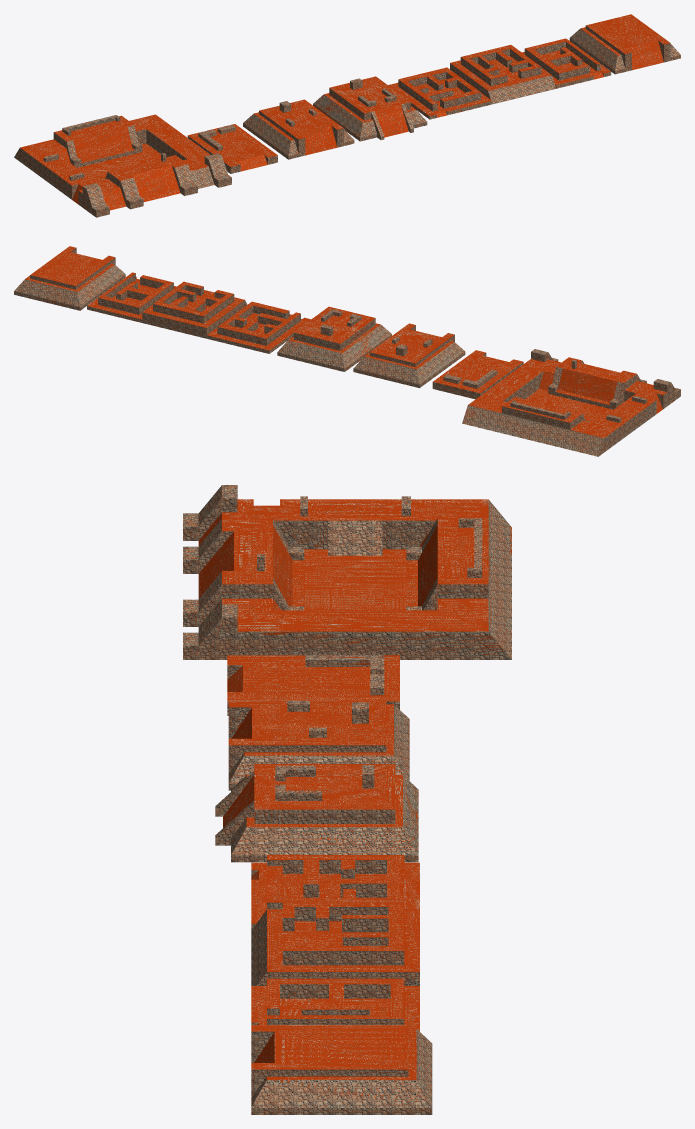
The model's file is plataformaEste.obj.
3 renders of one model, top to bottom at view 1: azimuth 30°, elevation 25°; view 2: azimuth 150°, elevation 25°; view 3: azimuth 270°, elevation 25°, orthographic. The views are drawn at different scales.
Visible parts, largest first — view 1: Mesh1 Model, Mesh5 Model, Mesh4 Model, Mesh3 Model, Mesh6 Model, Mesh2 Model; view 2: Mesh1 Model, Mesh5 Model, Mesh4 Model, Mesh3 Model, Mesh6 Model, Mesh2 Model; view 3: Mesh1 Model, Mesh5 Model, Mesh4 Model, Mesh6 Model, Mesh3 Model, Mesh2 Model.
Boxes of the visible parts, box(x1,y1,x2,y2) form: Mesh1 Model: box(14, 114, 231, 217); Mesh5 Model: box(388, 38, 611, 119); Mesh4 Model: box(313, 76, 427, 141); Mesh3 Model: box(243, 99, 354, 159); Mesh6 Model: box(569, 14, 680, 74); Mesh2 Model: box(187, 124, 277, 173); Mesh1 Model: box(462, 349, 680, 456); Mesh5 Model: box(87, 272, 310, 353); Mesh4 Model: box(277, 306, 391, 371); Mesh3 Model: box(353, 323, 465, 387); Mesh6 Model: box(14, 246, 125, 310); Mesh2 Model: box(432, 350, 523, 399); Mesh1 Model: box(183, 485, 511, 659); Mesh5 Model: box(251, 855, 419, 1031); Mesh4 Model: box(215, 764, 418, 862); Mesh6 Model: box(251, 1025, 432, 1114); Mesh3 Model: box(228, 700, 409, 790); Mesh2 Model: box(227, 655, 399, 715).
Bounding box in the file's own units: 177 × 8 × 42.
